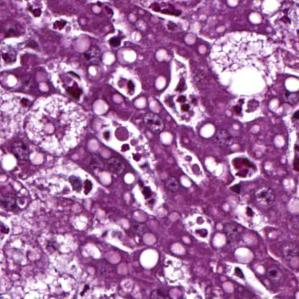ballooning: (206, 28, 283, 99), (22, 93, 90, 159)
